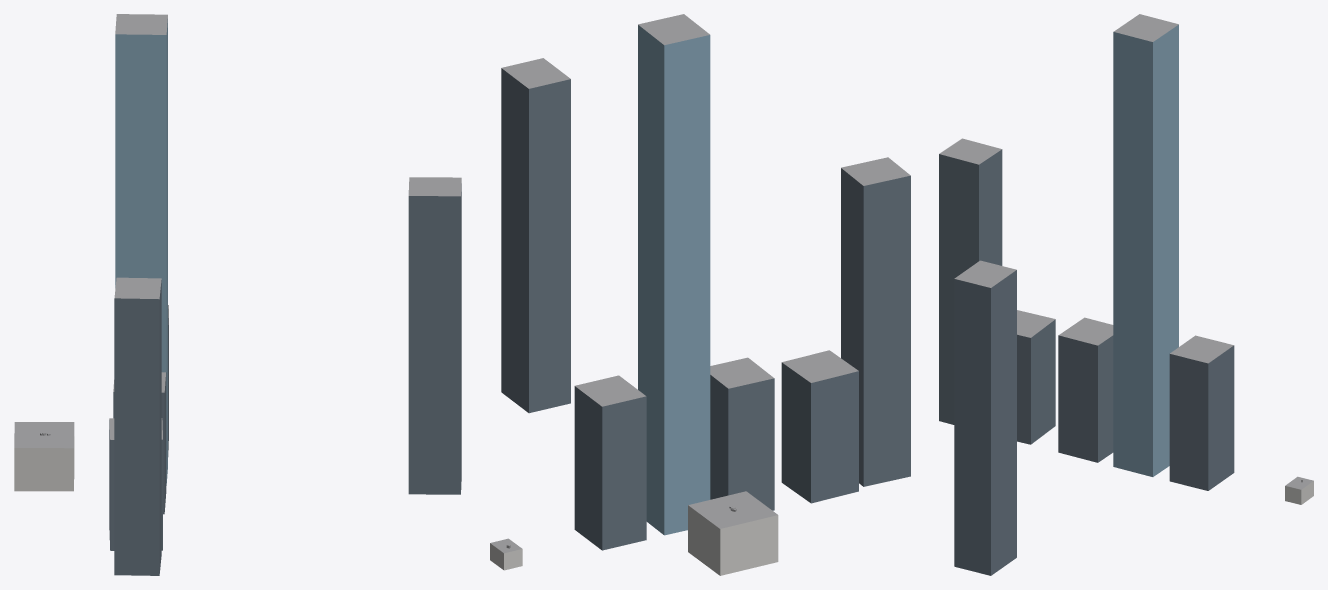
File: building_-2_-5.glb
3 renders of one model, left to right at view 1: azimuth 30°, elevation 25°; view 2: azimuth 150°, elevation 25°; view 3: azimuth 270°, elevation 25°, orthographic. The views are drawn at different scales.
Parts seen in each view (by area): view 1: glass_dark, glass_blue, roof, concrete_light; view 2: glass_dark, glass_blue, roof, concrete_light; view 3: glass_dark, glass_blue, roof.
Part boxes in pixels (x1,y1,x2,y2): glass_dark: (109, 183, 461, 575); glass_blue: (115, 19, 167, 485); roof: (14, 14, 461, 448); concrete_light: (14, 436, 74, 491); glass_dark: (501, 68, 910, 550); glass_blue: (638, 25, 710, 535); roof: (490, 14, 910, 553); concrete_light: (490, 505, 778, 575); glass_dark: (939, 149, 1234, 575); glass_blue: (1113, 24, 1178, 476); roof: (939, 14, 1313, 489).
Size of the model in its own units: 281 by 334 by 261.
